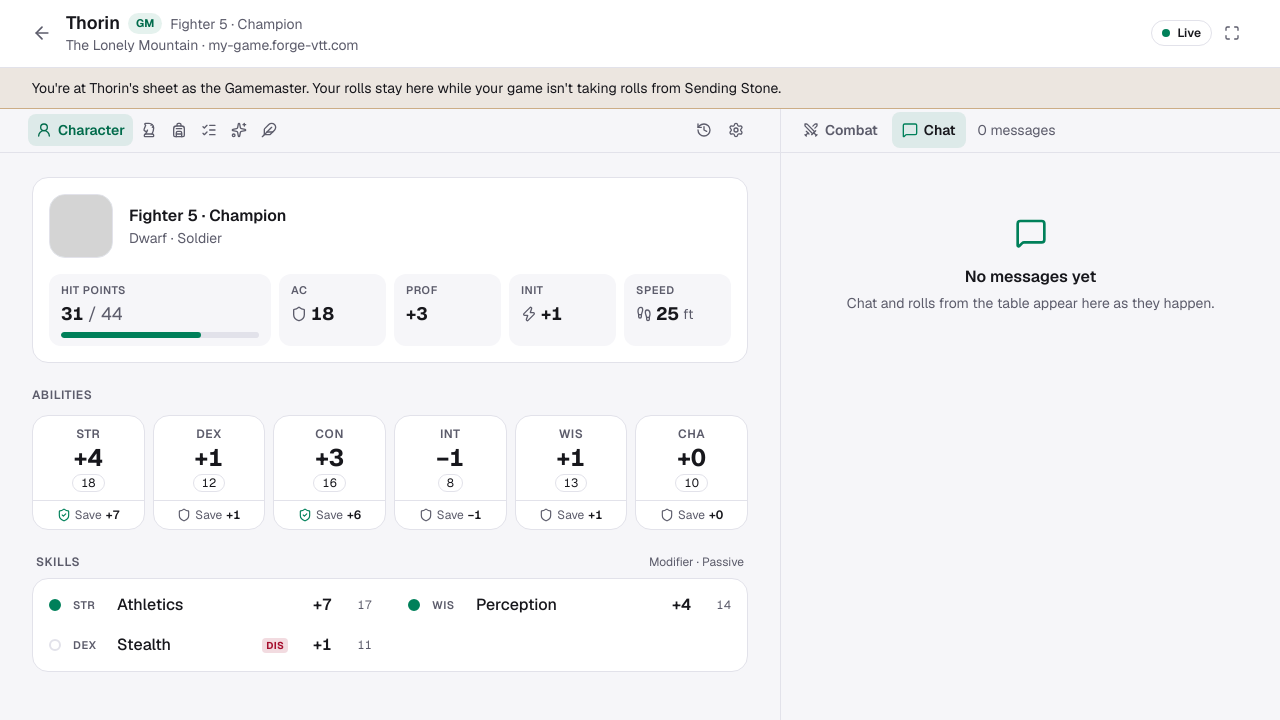
Scenario: components/game-table, party sheets › speaks to the Gamemaster as the Gamemaster, once the group has left their campaign
Click the tab named "Inventory" at coordinates (179, 130), box [165,114,193,146]
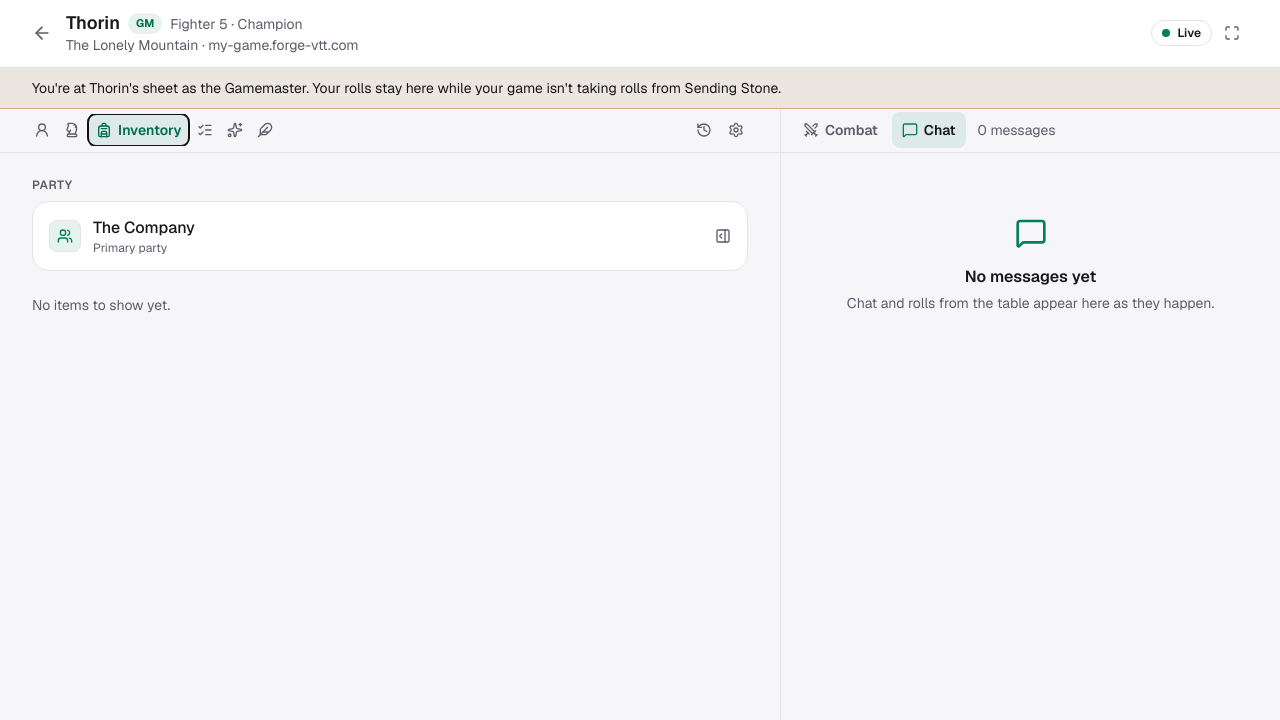
Click the button "The Company Primary party" at coordinates (65, 236), box [39,208,741,264]
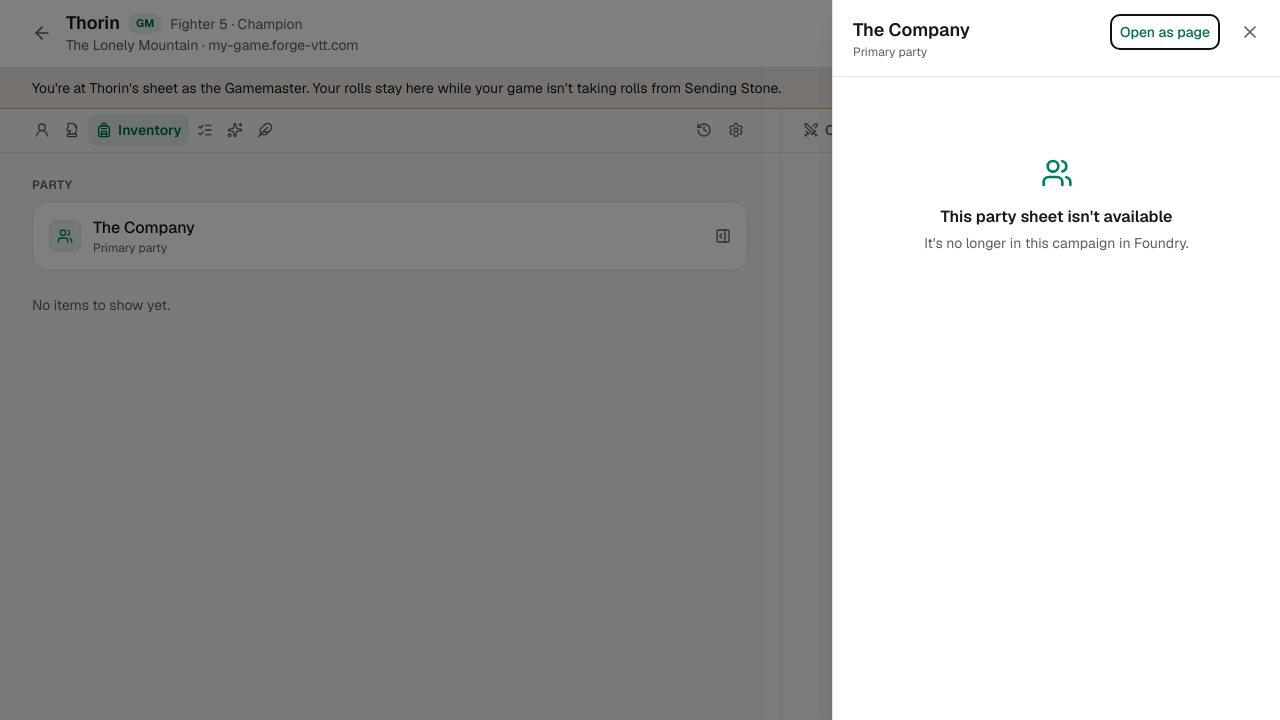
Expected: the dialog "The Company" does not show "your character", [832,0,1279,719]
Result: the heading "This party sheet isn't available" is shown at [940,205,1172,229]
Result: the dialog "The Company" shows "It's no longer in this campaign in Foundry." at [924,234,1189,252]
